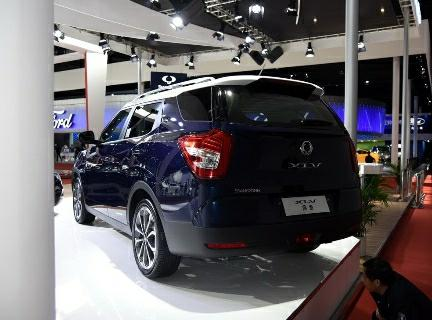car: (63, 65, 378, 284)
